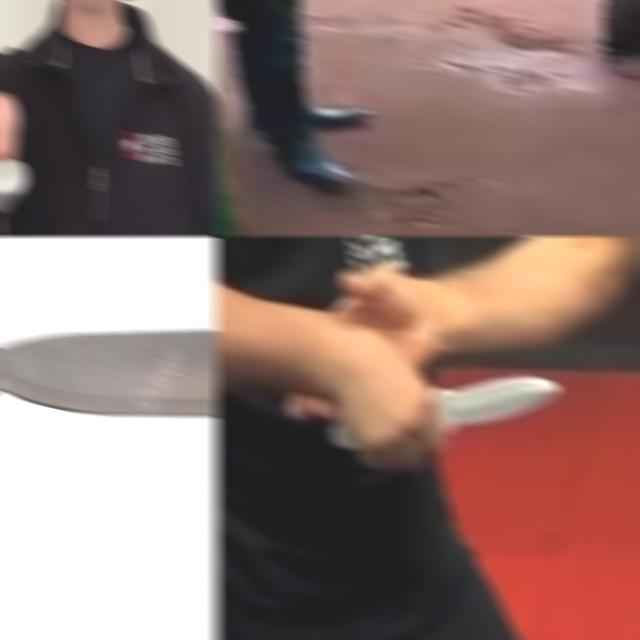Knife: (0, 328, 220, 416)
Knife_Handle: (0, 236, 220, 471), (330, 375, 560, 474), (431, 374, 561, 436)
